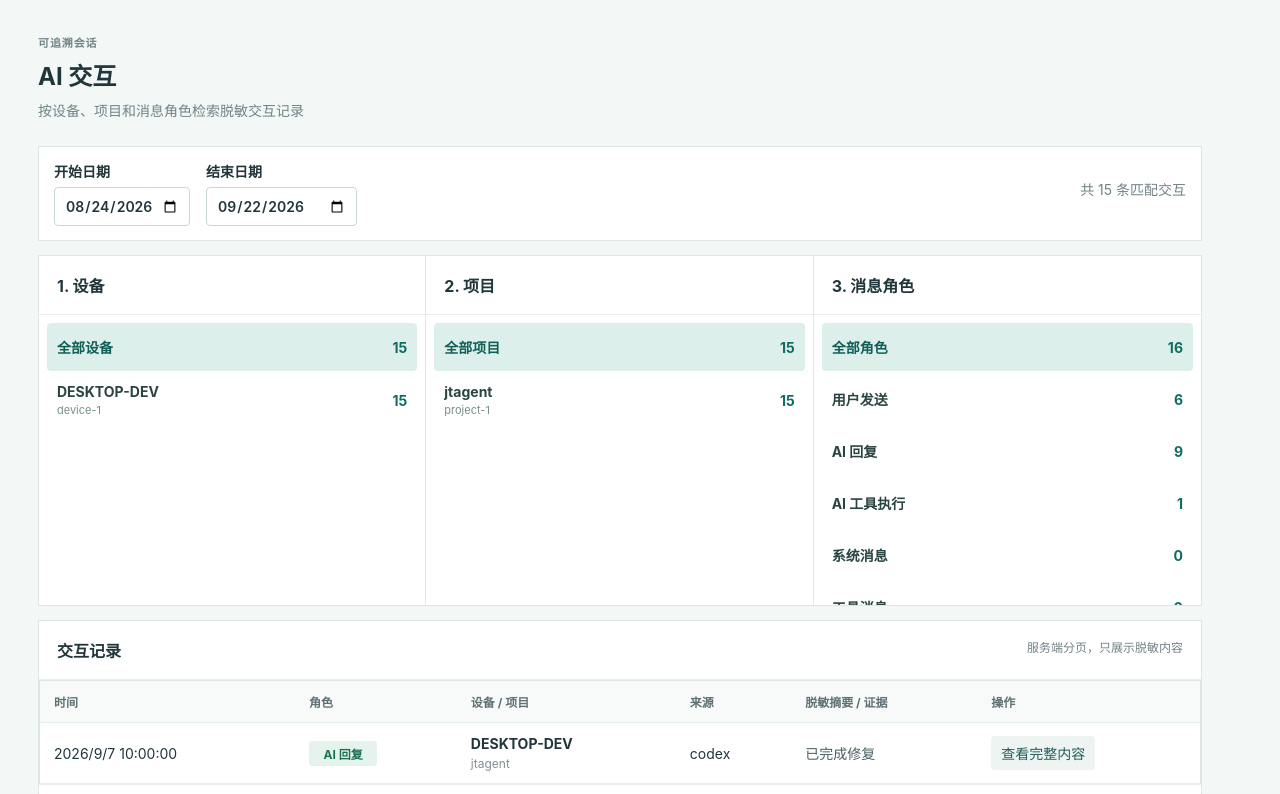
Test: AI 交互页面 › 按设备、项目和消息角色展示交互并打开脱敏详情
Expected: the text "DESKTOP-DEV" below "1. 设备" is shown, [57, 383, 159, 400]
Expected: the text "jtagent" below "2. 项目" is shown, [444, 383, 492, 400]
Click the button "查看完整内容" at (1043, 753), box [991, 736, 1095, 770]
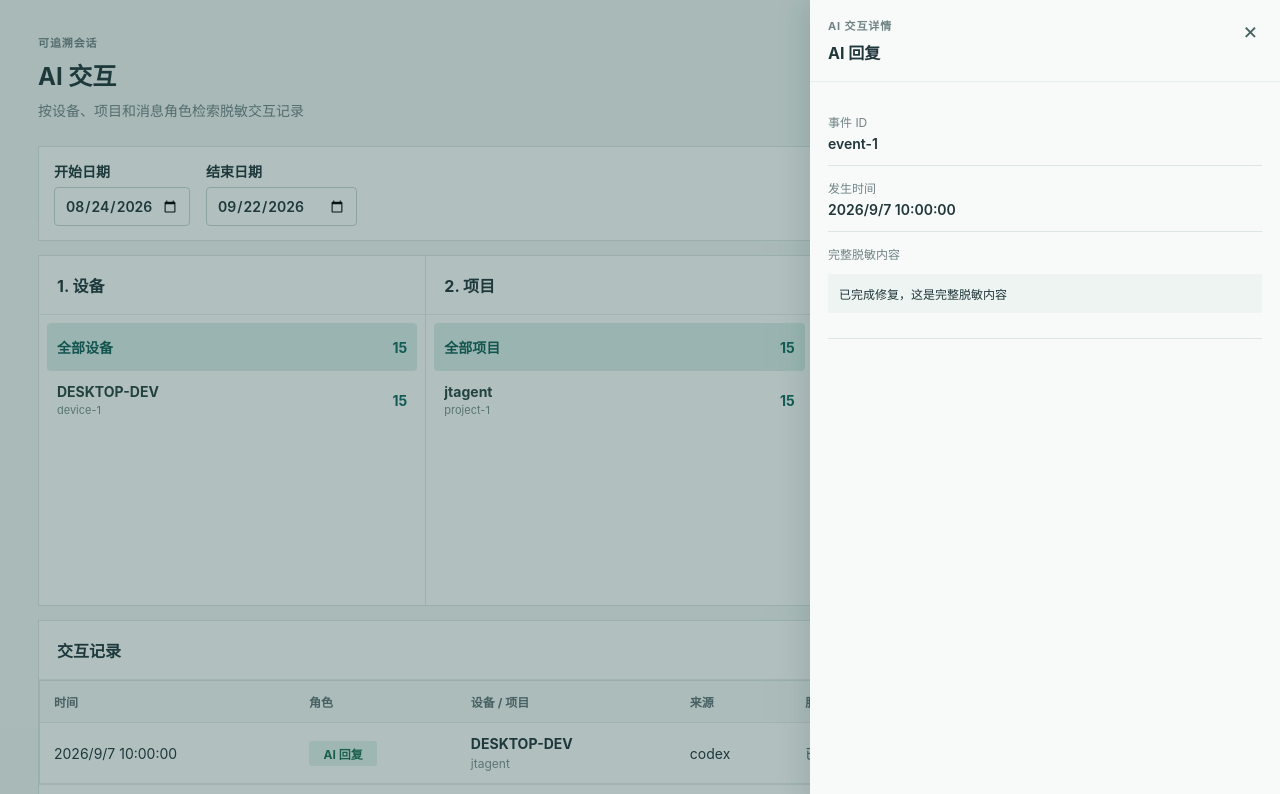
Expected: the text "已完成修复，这是完整脱敏内容" is shown, [828, 274, 1262, 313]
